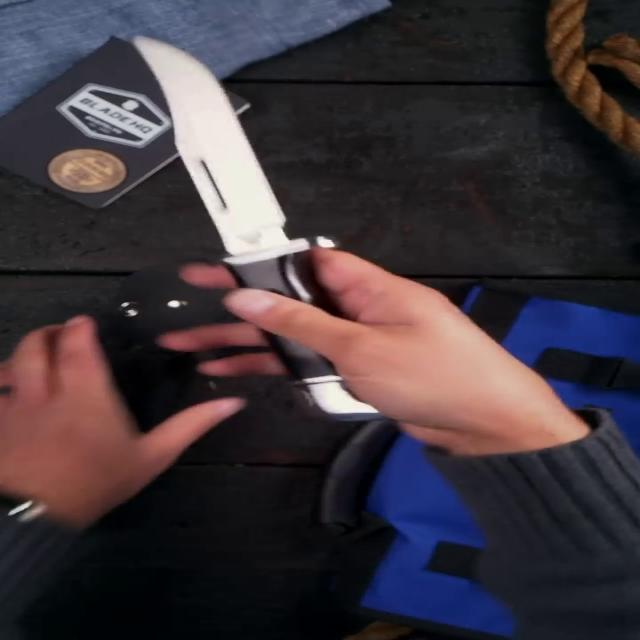Knife: (118, 29, 446, 444)
